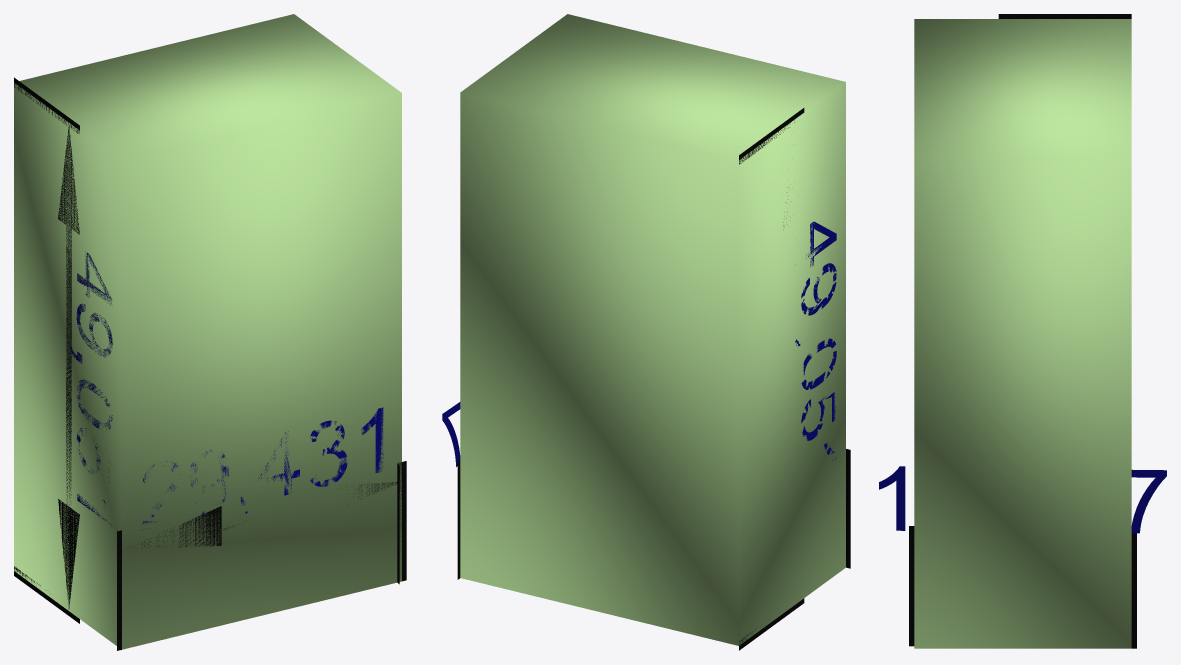
The model's file is coub.obj.
3 views of the same model, side by side, from view 1: azimuth 30°, elevation 25°; view 2: azimuth 150°, elevation 25°; view 3: azimuth 270°, elevation 25° (orthographic).
Parts seen in each view (by area): view 1: Box001, DIM_Line_003, DIM_Line_001, DIM_Line_001_Text_001, DIM_Line_003_Text_001; view 2: Box001, DIM_Line_003_Text_001, DIM_Line_003, DIM_Line_001; view 3: Box001, DIM_Line_002_Text_001, DIM_Line_002, DIM_Line_003.
Boxes of the visible parts, box(x1,y1,x2,y2) form: Box001: box(14, 14, 401, 649); DIM_Line_003: box(14, 77, 79, 623); DIM_Line_001: box(117, 461, 406, 650); DIM_Line_001_Text_001: box(141, 407, 383, 530); DIM_Line_003_Text_001: box(70, 252, 112, 525); Box001: box(460, 14, 845, 645); DIM_Line_003_Text_001: box(795, 221, 836, 460); DIM_Line_003: box(739, 108, 804, 650); DIM_Line_001: box(846, 449, 850, 568); Box001: box(914, 19, 1131, 648); DIM_Line_002_Text_001: box(879, 466, 1166, 533); DIM_Line_002: box(909, 526, 1136, 648); DIM_Line_003: box(998, 14, 1131, 18).
Size of the model in its own units: 30.43 by 50.05 by 26.
